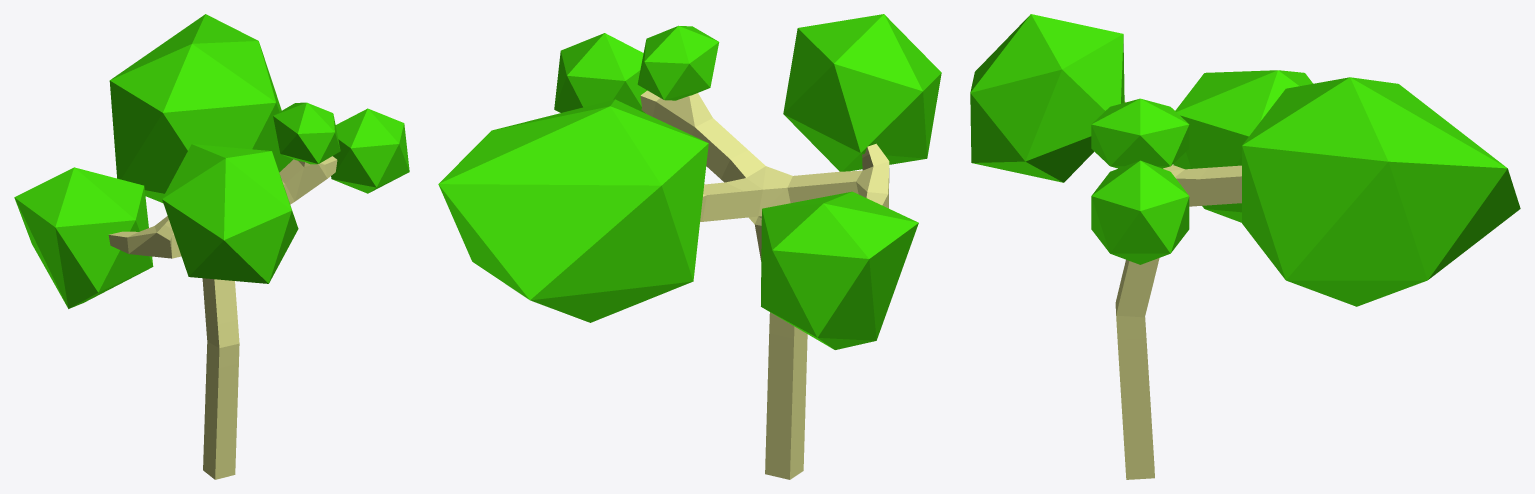
Rendered from low_poly_tree.fbx.
3 views of the same model, side by side, from view 1: azimuth 30°, elevation 25°; view 2: azimuth 150°, elevation 25°; view 3: azimuth 270°, elevation 25° (orthographic). The views are drawn at different scales.
Parts seen in each view (by area): view 1: Icosphere.002, Icosphere.001, Cube, Icosphere; view 2: Icosphere.002, Icosphere.001, Cube, Icosphere; view 3: Icosphere.002, Icosphere.001, Icosphere, Cube.
Part boxes in pixels (bbox=[...]): Icosphere.002: bbox=[14, 14, 293, 308]; Icosphere.001: bbox=[162, 144, 298, 283]; Cube: bbox=[108, 156, 337, 479]; Icosphere: bbox=[273, 102, 409, 193]; Icosphere.002: bbox=[438, 99, 918, 349]; Icosphere.001: bbox=[783, 14, 941, 171]; Cube: bbox=[640, 90, 889, 479]; Icosphere: bbox=[554, 25, 719, 113]; Icosphere.002: bbox=[1173, 70, 1520, 306]; Icosphere.001: bbox=[970, 14, 1124, 182]; Icosphere: bbox=[1091, 98, 1189, 264]; Cube: bbox=[1115, 101, 1241, 479].
Size of the model in its own units: 792 by 837 by 955.
